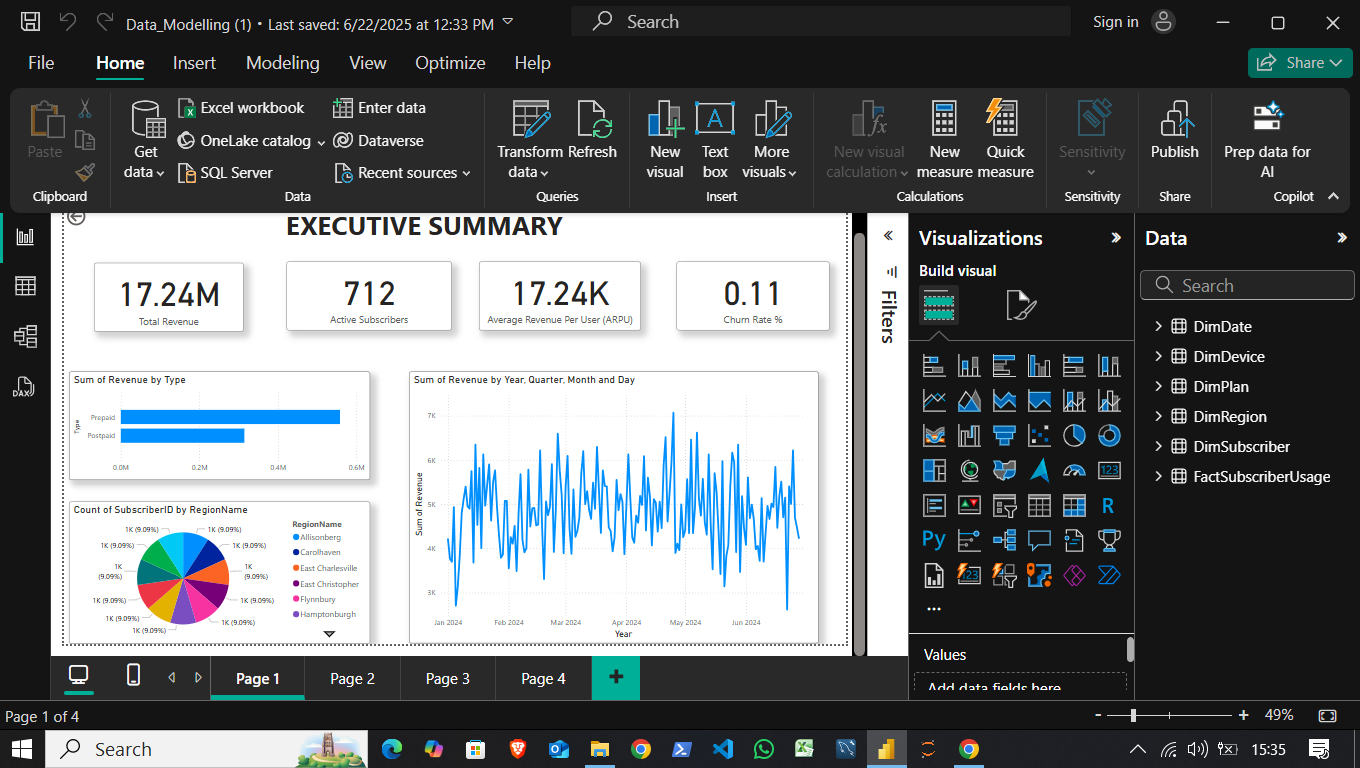

Layout of this report page (visuals, bound fields, positions):
{"tool":"powerbi","page":{"name":"Page 1","canvas":[1280,720],"ordinal":0},"visuals":[{"type":"actionButton","box":[0,0,100,40],"z":1003},{"type":"card","fields":{"Values":["FactSubscriberUsage.Total Revenue"]},"box":[49.8,95.3,244.7,112.6],"z":1004},{"type":"card","fields":{"Values":["DimDate.Active Subscribers"]},"box":[365,95,270,112.5],"z":1005},{"type":"card","fields":{"Values":["FactSubscriberUsage.Average Revenue Per User (ARPU)"]},"box":[680,95,265,112.5],"z":1006},{"type":"card","fields":{"Values":["DimDate.Churn Rate %"]},"box":[1002.5,95,250,112.5],"z":1007},{"type":"barChart","fields":{"Y":["Sum(FactSubscriberUsage.Revenue)"],"Category":["DimPlan.Type"]},"box":[7.5,275,492.5,177.5],"z":1008},{"type":"lineChart","fields":{"Y":["Sum(FactSubscriberUsage.Revenue)"],"Category":["DimDate.Date.Variation.Date Hierarchy.Year","DimDate.Date.Variation.Date Hierarchy.Quarter","DimDate.Date.Variation.Date Hierarchy.Month","DimDate.Date.Variation.Date Hierarchy.Day"]},"box":[565,275,670,445],"z":1009},{"type":"pieChart","fields":{"Y":["CountNonNull(DimSubscriber.SubscriberID)"],"Series":["DimRegion.RegionName"]},"box":[7.5,487.5,492.5,232.5],"z":1010},{"type":"textbox","box":[357.5,0,482.5,70],"z":1012}]}

Visuals, with their boxes on the page's 1280x720 design canvas (x1, y1, x2, y2). These are canvas units, not pixel positions in the 1360x768 screenshot, which may show the page scaled, cropped or inside an application window:
actionButton: bbox=(0, 0, 100, 40)
card - FactSubscriberUsage.Total Revenue: bbox=(50, 95, 294, 208)
card - DimDate.Active Subscribers: bbox=(365, 95, 635, 208)
card - FactSubscriberUsage.Average Revenue Per User (ARPU): bbox=(680, 95, 945, 208)
card - DimDate.Churn Rate %: bbox=(1002, 95, 1252, 208)
barChart - Sum(FactSubscriberUsage.Revenue) x DimPlan.Type: bbox=(8, 275, 500, 452)
lineChart - Sum(FactSubscriberUsage.Revenue) x DimDate.Date.Variation.Date Hierarchy.Year: bbox=(565, 275, 1235, 720)
pieChart - CountNonNull(DimSubscriber.SubscriberID) x DimRegion.RegionName: bbox=(8, 488, 500, 720)
textbox: bbox=(358, 0, 840, 70)
